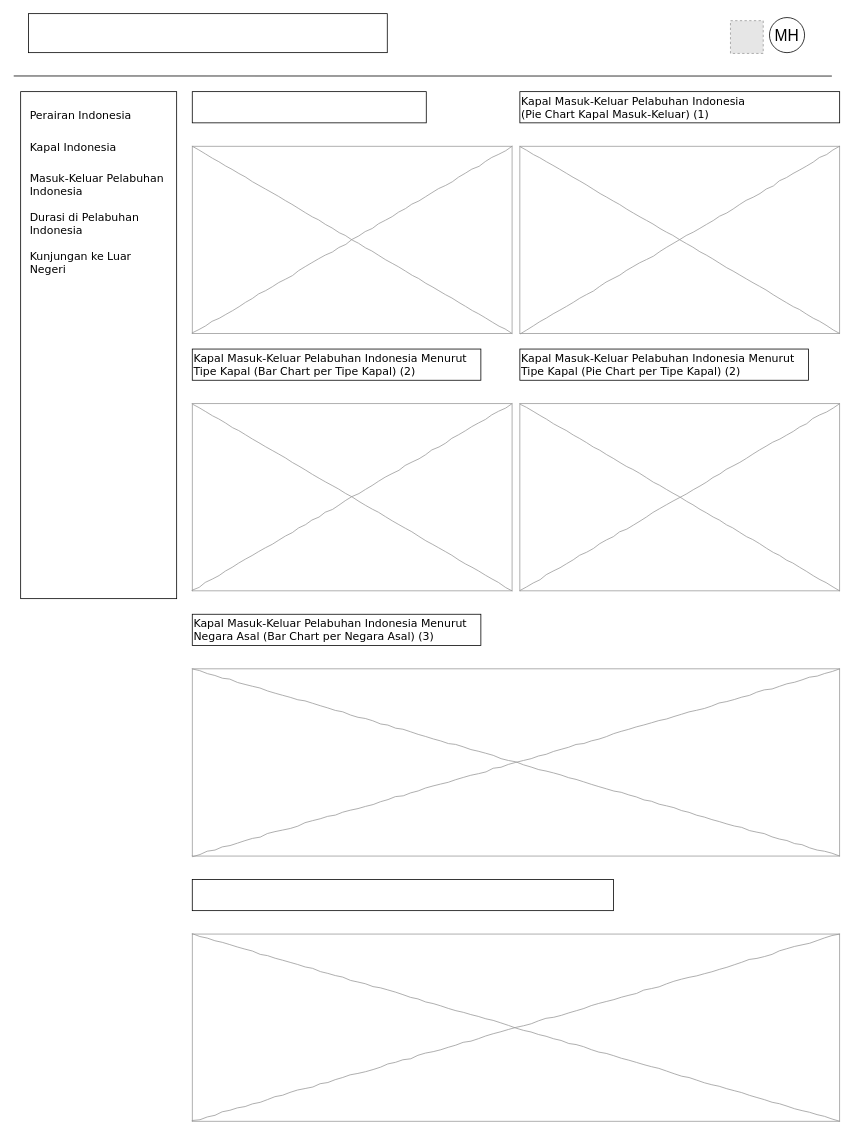
Image size: 853x1135. Some labels were removed from this diagram. Grey dashed boxes stand in for pictures. The shapes that lost their labels are listed below. From the top down, each one's box as (x1, y1, x2, y2) in pixels, then its label:
(28, 13, 387, 53): Monitoring Aktivitas Perkapalan
(191, 91, 426, 123): Kapal Masuk-Keluar Pelabuhan Indonesia (Line Chart per Bulan) (1)
(191, 879, 613, 911): Perbadingan dengan Data BPS (line chart evaluasi) (4)
